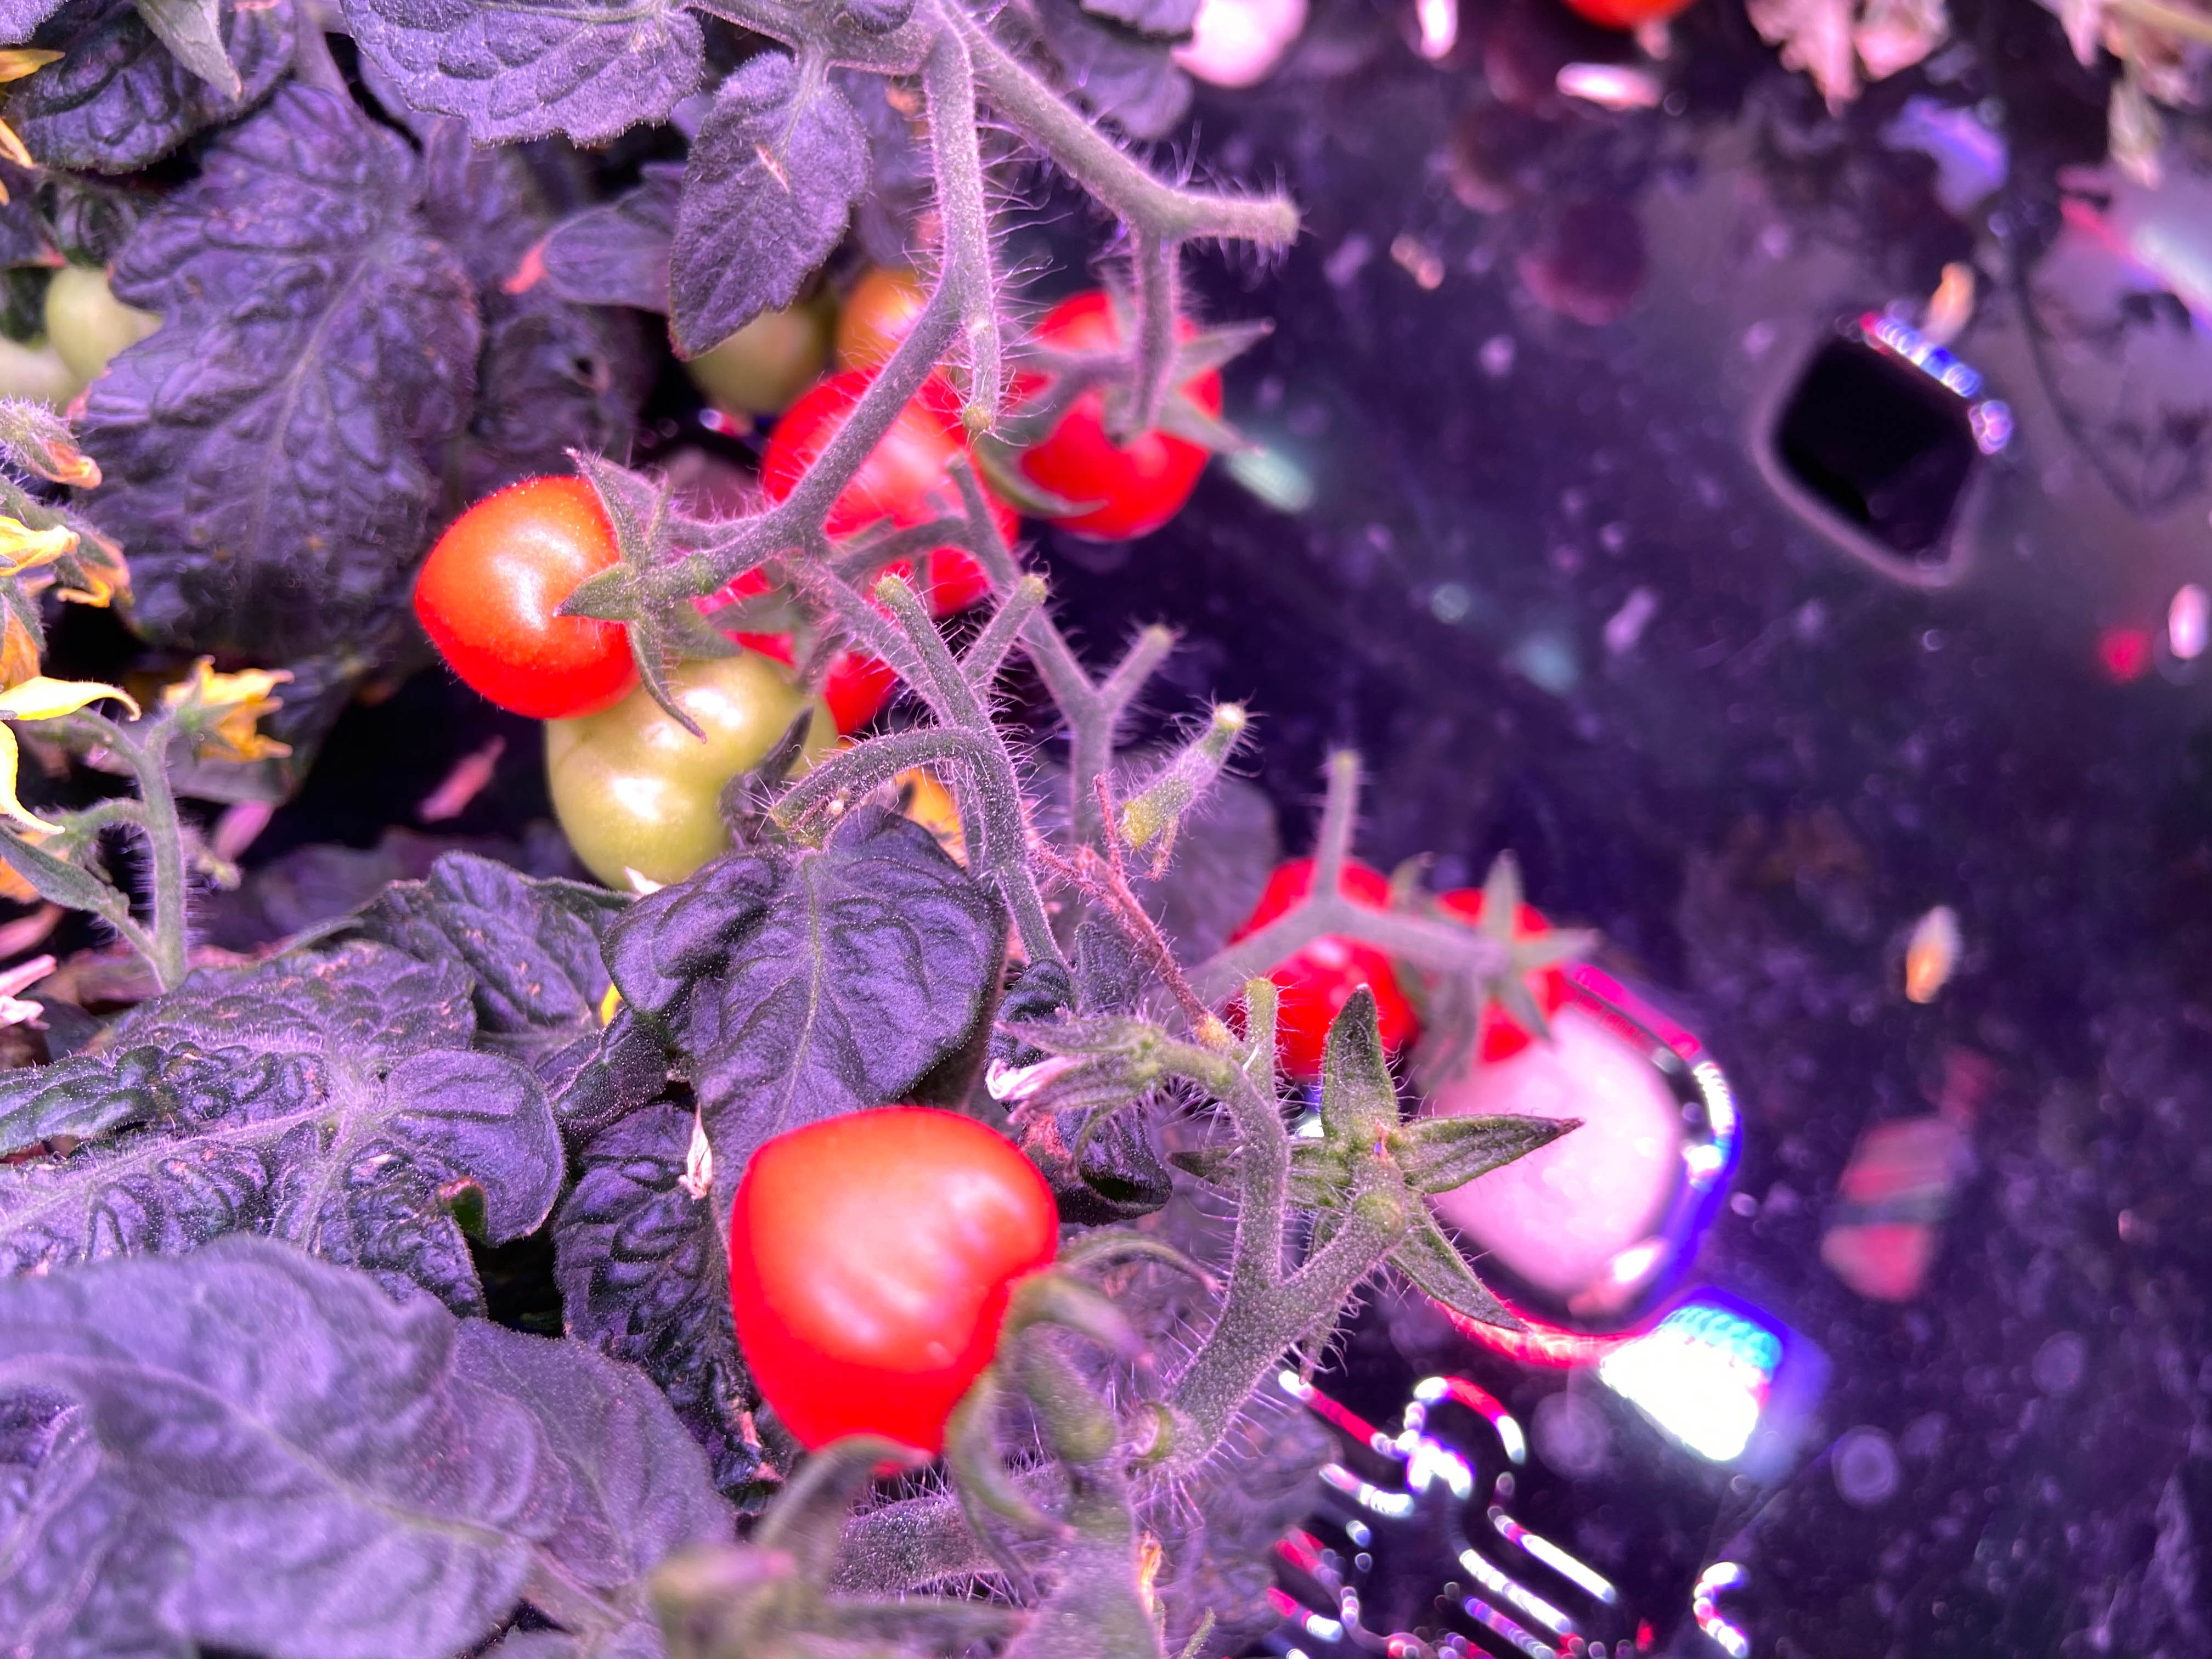green: (545, 633, 848, 901), (676, 277, 840, 413), (37, 253, 171, 387), (0, 277, 89, 434)
red: (726, 1094, 1061, 1459), (747, 366, 1010, 636), (415, 471, 650, 720), (1197, 849, 1435, 1093), (991, 298, 1221, 533), (728, 472, 941, 720), (1411, 887, 1571, 1073), (831, 258, 993, 408), (1533, 2, 1707, 30)
